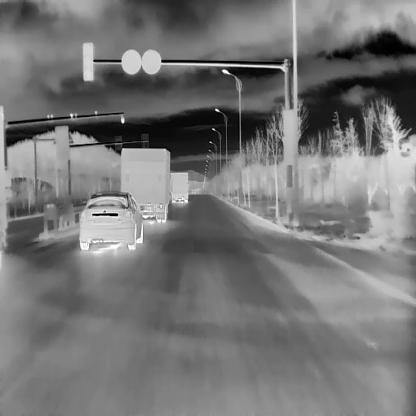car: (78, 190, 144, 249)
truck: (120, 146, 169, 221), (169, 172, 187, 202)
